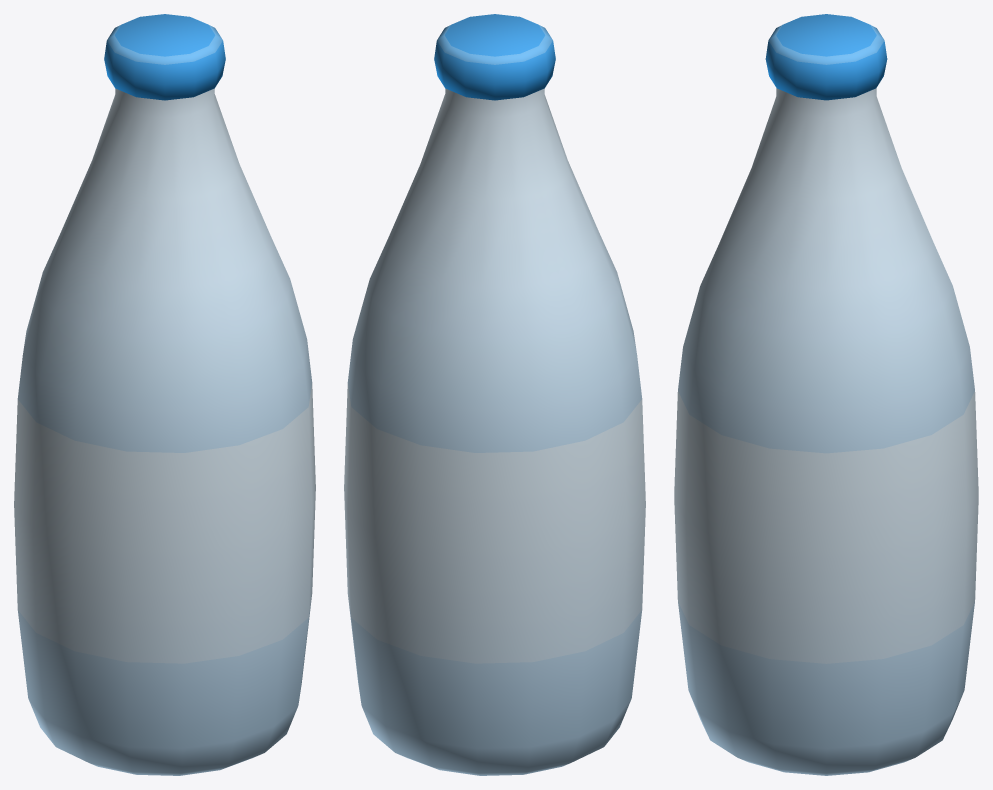
File: milk_002.fbx
3 views of the same model, side by side, from view 1: azimuth 30°, elevation 25°; view 2: azimuth 150°, elevation 25°; view 3: azimuth 270°, elevation 25° (orthographic).
Parts seen in each view (by area): view 1: milk_002; view 2: milk_002; view 3: milk_002.
Part boxes in pixels (bbox=[...]): milk_002: bbox=[14, 14, 315, 775]; milk_002: bbox=[344, 14, 645, 775]; milk_002: bbox=[674, 14, 978, 775].
Bounding box in the file's own units: 9.99 × 9.99 × 25.45.
